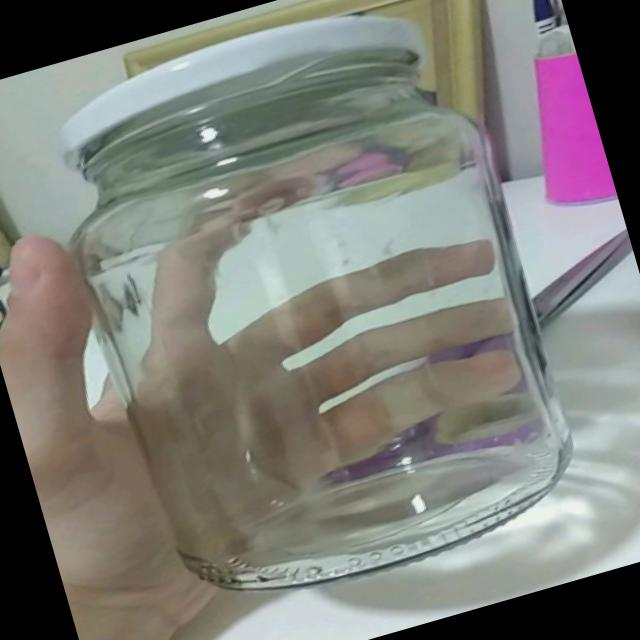ToplesKaca: (19, 0, 596, 629)
